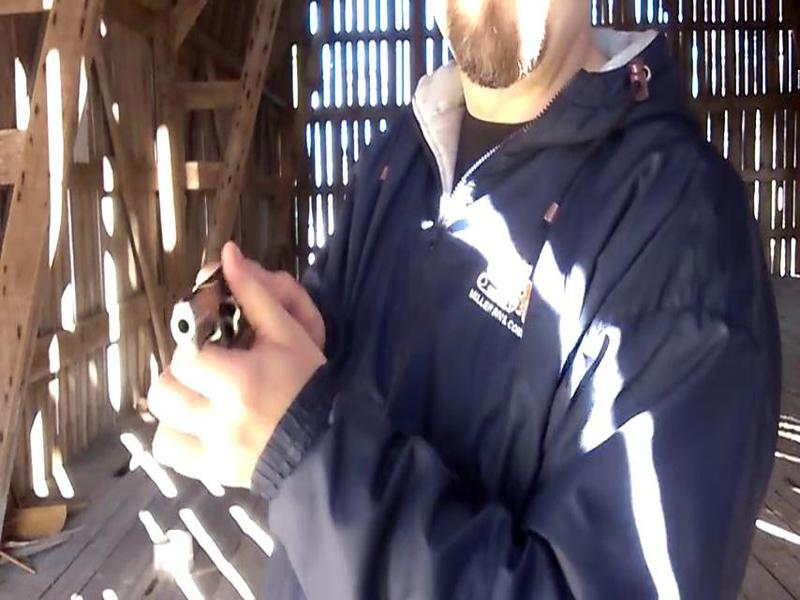Revolver: (116, 244, 255, 413)
